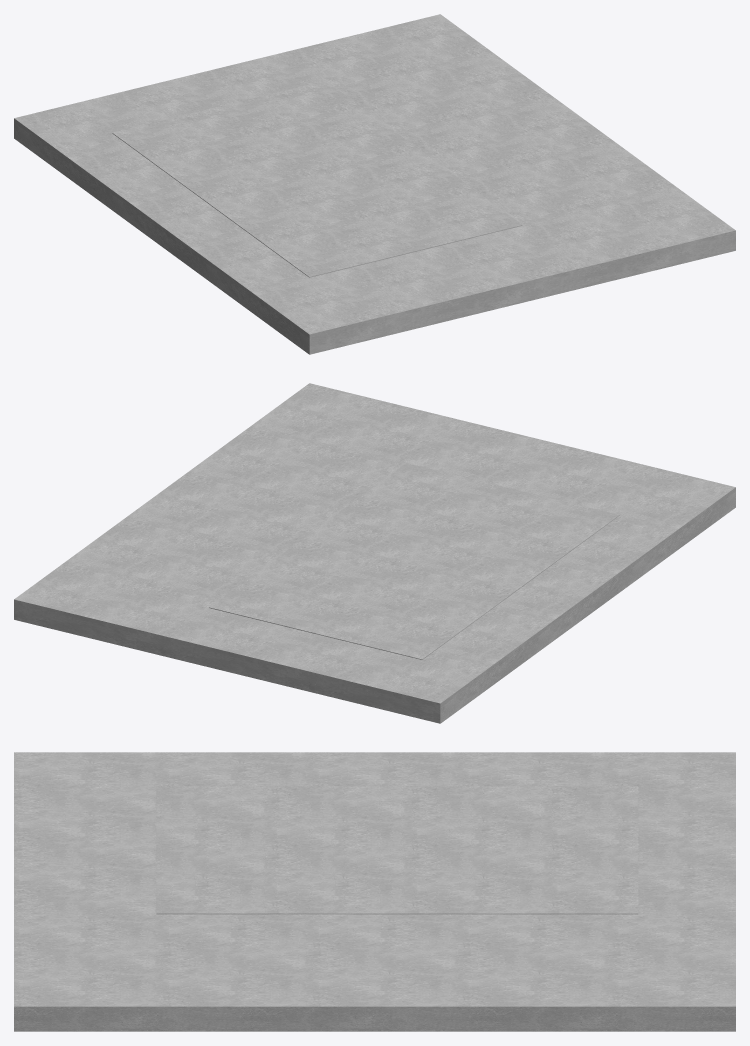
Rendered from Floor_05410015.obj.
The picture shows the model from 3 angles, top to bottom: view 1: azimuth 30°, elevation 25°; view 2: azimuth 150°, elevation 25°; view 3: azimuth 270°, elevation 25°; orthographic projection. The views are drawn at different scales.
Parts seen in each view (by area): view 1: mesh_311a2bb5; view 2: mesh_311a2bb5; view 3: mesh_311a2bb5.
Part boxes in pixels (<box>): mesh_311a2bb5: <box>14,14,735,354</box>; mesh_311a2bb5: <box>14,383,735,723</box>; mesh_311a2bb5: <box>14,752,735,1031</box>.
Bounding box in the file's own units: 4.4 × 0.206 × 5.28.
